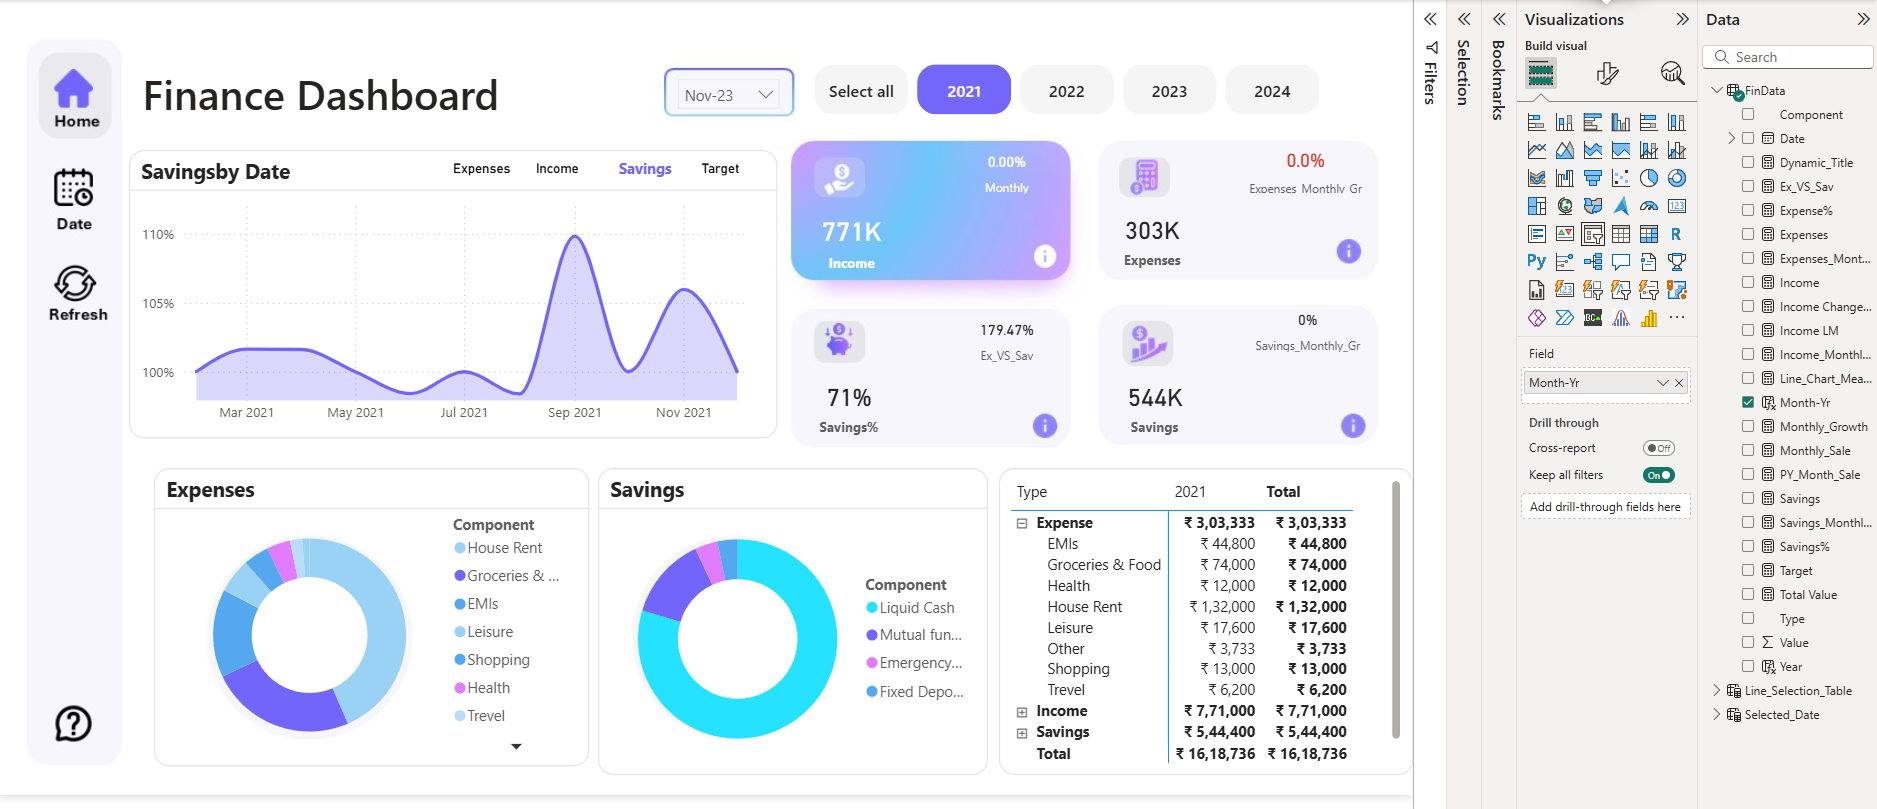

This screenshot's page, from the dashboard's own definition file:
{"tool":"powerbi","page":{"name":"Finance Dashboard","canvas":[1280,720],"ordinal":0},"visuals":[{"type":"card","fields":{"Values":["FinData.Expenses"]},"box":[987.2,178,112.8,75.9],"z":0},{"type":"card","fields":{"Values":["FinData.Income"]},"box":[716.8,179.9,109.9,73.9],"z":1000},{"type":"card","fields":{"Values":["FinData.Savings%"]},"box":[716.8,331.7,105,72],"z":2000},{"type":"card","fields":{"Values":["FinData.Savings"]},"box":[992.1,331.7,108,72],"z":3000},{"type":"advancedSlicerVisual","fields":{"Values":["FinData.Year"]},"box":[733.4,53.5,467.8,55.4],"z":4000},{"type":"donutChart","title":"Savings","fields":{"Category":["FinData.Component"],"Y":["FinData.Savings"]},"box":[542.7,423.8,352.9,277.5],"z":5000},{"type":"donutChart","title":"Expenses","fields":{"Category":["FinData.Component"],"Y":["FinData.Expenses"]},"box":[140.1,423.8,393.7,270.4],"z":6000},{"type":"pivotTable","fields":{"Values":["FinData.Total Value"],"Rows":["FinData.Type","FinData.Component"],"Columns":["FinData.Year"]},"box":[905.3,423.8,375.1,277.5],"z":7000},{"type":"lineChart","fields":{"Category":["FinData.Date"],"Y":["FinData.Line_Chart_Meaures"]},"box":[117.7,136.2,587.5,260.7],"z":8000},{"type":"advancedSlicerVisual","fields":{"Values":["Line_Selection_Table.Type"]},"box":[400.7,136.2,304.4,37.9],"z":9000},{"type":"slicer","fields":{"Values":["Selected_Date.Month-Yr"]},"box":[605,61.3,112,40],"z":10000},{"type":"card","fields":{"Values":["FinData.Income_Monthly_Gr"]},"box":[855.9,130.3,111.9,49.6],"z":11000},{"type":"card","fields":{"Values":["FinData.Expenses_Monthly_Gr"]},"box":[1124.4,126.4,116.7,53.5],"z":12000},{"type":"card","fields":{"Values":["FinData.Savings_Monthly_Gr"]},"box":[1129.2,273.3,111.9,49.6],"z":13000},{"type":"card","fields":{"Values":["FinData.Ex_VS_Sav"]},"box":[855.9,282.1,111.9,49.6],"z":14000},{"type":"textbox","box":[125,54.1,376,61.2],"z":15000},{"type":"actionButton","box":[36.4,142.8,66.5,73.6],"z":16000},{"type":"actionButton","box":[36.3,233.2,66.6,64.6],"z":18000}]}

Visuals, with their boxes on the page's 1280x720 design canvas (x1, y1, x2, y2). These are canvas units, not pixel positions in the 1877x809 screenshot, which may show the page scaled, cropped or inside an application window:
card - FinData.Expenses: 987 178 1100 254
card - FinData.Income: 717 180 827 254
card - FinData.Savings%: 717 332 822 404
card - FinData.Savings: 992 332 1100 404
advancedSlicerVisual - FinData.Year: 733 54 1201 109
"Savings" donutChart: 543 424 896 701
"Expenses" donutChart: 140 424 534 694
pivotTable - FinData.Total Value x FinData.Type: 905 424 1280 701
lineChart - FinData.Date x FinData.Line_Chart_Meaures: 118 136 705 397
advancedSlicerVisual - Line_Selection_Table.Type: 401 136 705 174
slicer - Selected_Date.Month-Yr: 605 61 717 101
card - FinData.Income_Monthly_Gr: 856 130 968 180
card - FinData.Expenses_Monthly_Gr: 1124 126 1241 180
card - FinData.Savings_Monthly_Gr: 1129 273 1241 323
card - FinData.Ex_VS_Sav: 856 282 968 332
textbox: 125 54 501 115
actionButton: 36 143 103 216
actionButton: 36 233 103 298
